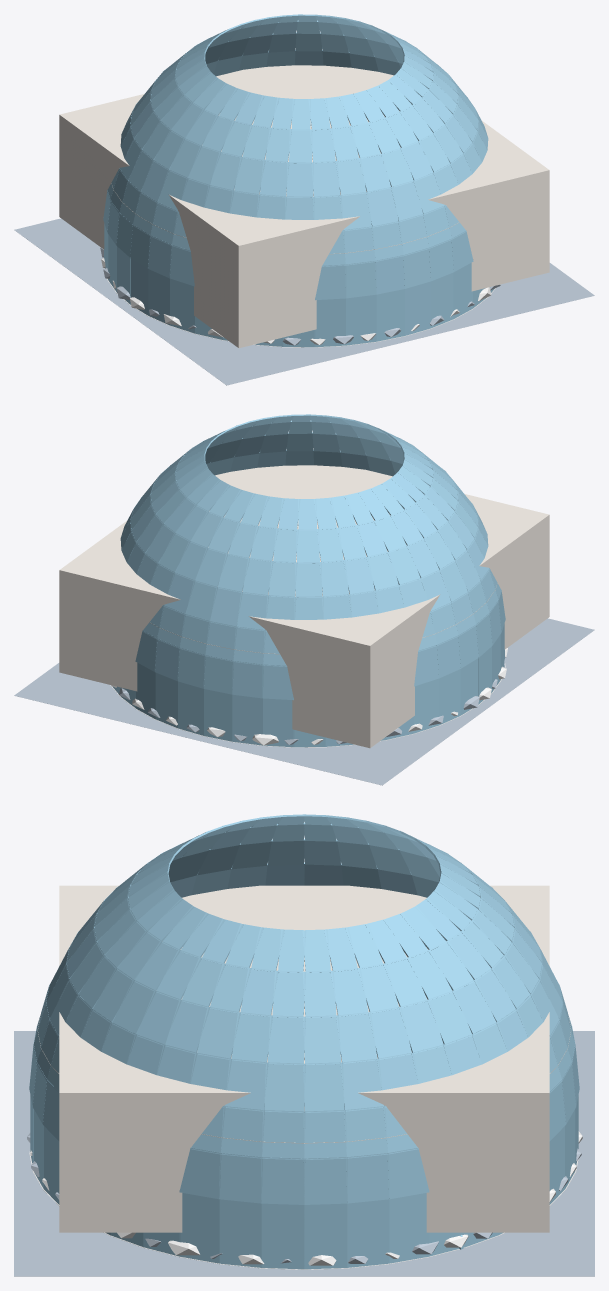
File: CatCafe_Snowglobe_Set.glb
3 renders of one model, top to bottom at view 1: azimuth 30°, elevation 25°; view 2: azimuth 150°, elevation 25°; view 3: azimuth 270°, elevation 25°, orthographic. The views are drawn at different scales.
Parts seen in each view (by area): view 1: CatCafe_Snowglobe_Set_001_Sky_Glass, CatCafe_Snowglobe_Set_007_Snowfall, CatCafe_Snowglobe_Set; view 2: CatCafe_Snowglobe_Set_001_Sky_Glass, CatCafe_Snowglobe_Set_007_Snowfall, CatCafe_Snowglobe_Set; view 3: CatCafe_Snowglobe_Set_001_Sky_Glass, CatCafe_Snowglobe_Set_007_Snowfall, CatCafe_Snowglobe_Set.
Part boxes in pixels (left/top/right/bottom): CatCafe_Snowglobe_Set_001_Sky_Glass: left=103, top=14, right=494, bottom=347; CatCafe_Snowglobe_Set_007_Snowfall: left=59, top=65, right=549, bottom=348; CatCafe_Snowglobe_Set: left=14, top=218, right=594, bottom=385; CatCafe_Snowglobe_Set_001_Sky_Glass: left=112, top=414, right=505, bottom=747; CatCafe_Snowglobe_Set_007_Snowfall: left=59, top=465, right=549, bottom=748; CatCafe_Snowglobe_Set: left=14, top=618, right=594, bottom=785; CatCafe_Snowglobe_Set_001_Sky_Glass: left=29, top=814, right=579, bottom=1269; CatCafe_Snowglobe_Set_007_Snowfall: left=59, top=885, right=549, bottom=1232; CatCafe_Snowglobe_Set: left=14, top=1031, right=594, bottom=1276.
Bounding box in the file's own units: 128 × 68.43 × 128.
Materials: 1 (1 with a texture image).
